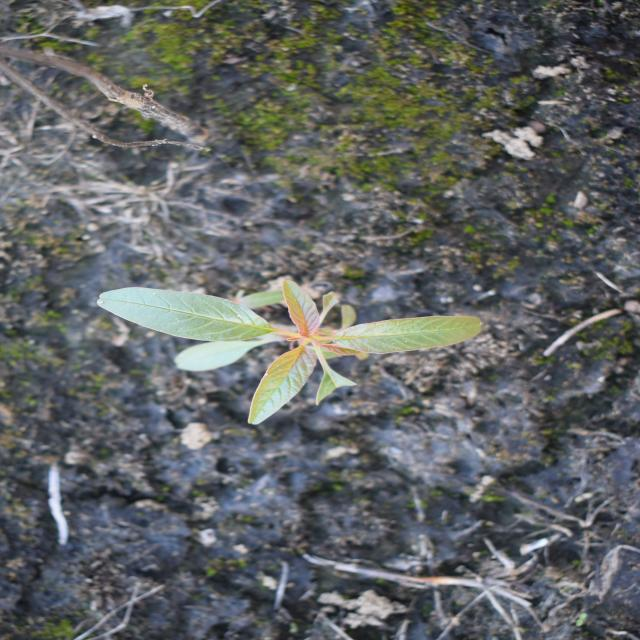Waterhemp: (92, 274, 489, 427)
